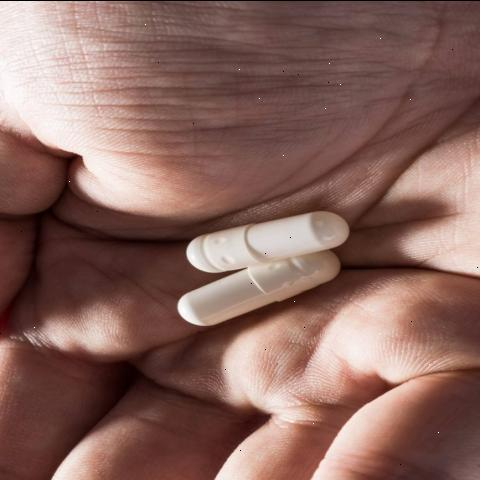Pill: (156, 252, 352, 338), (172, 216, 358, 272)
